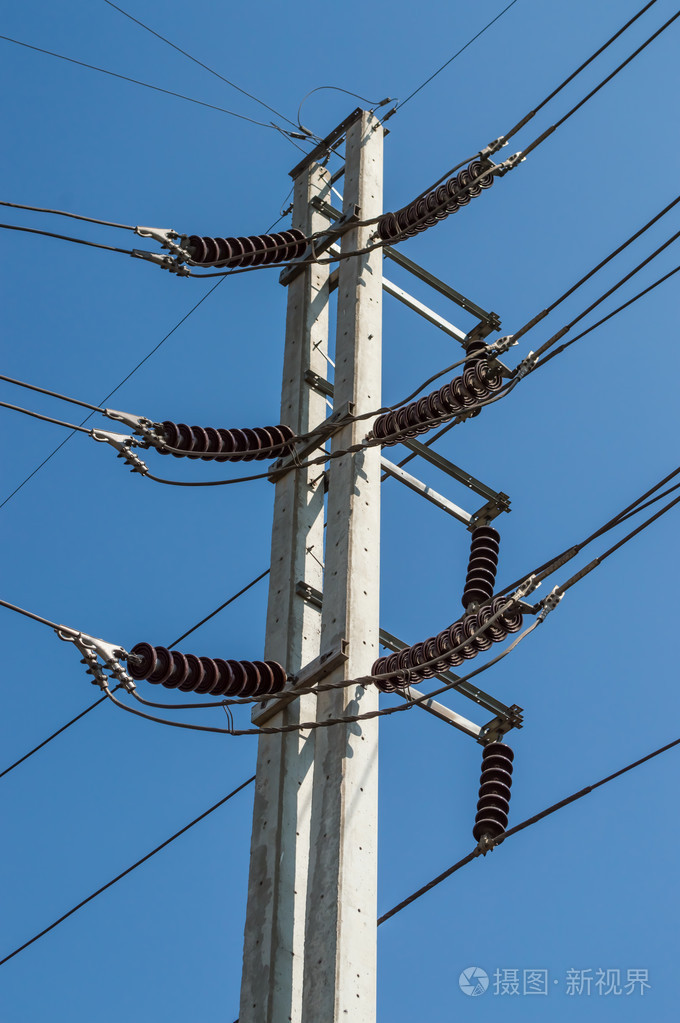insulator: (370, 596, 521, 688), (371, 358, 500, 448), (380, 156, 498, 247), (125, 638, 290, 697), (146, 418, 295, 463), (466, 742, 517, 844), (184, 226, 310, 267), (464, 523, 499, 609)
